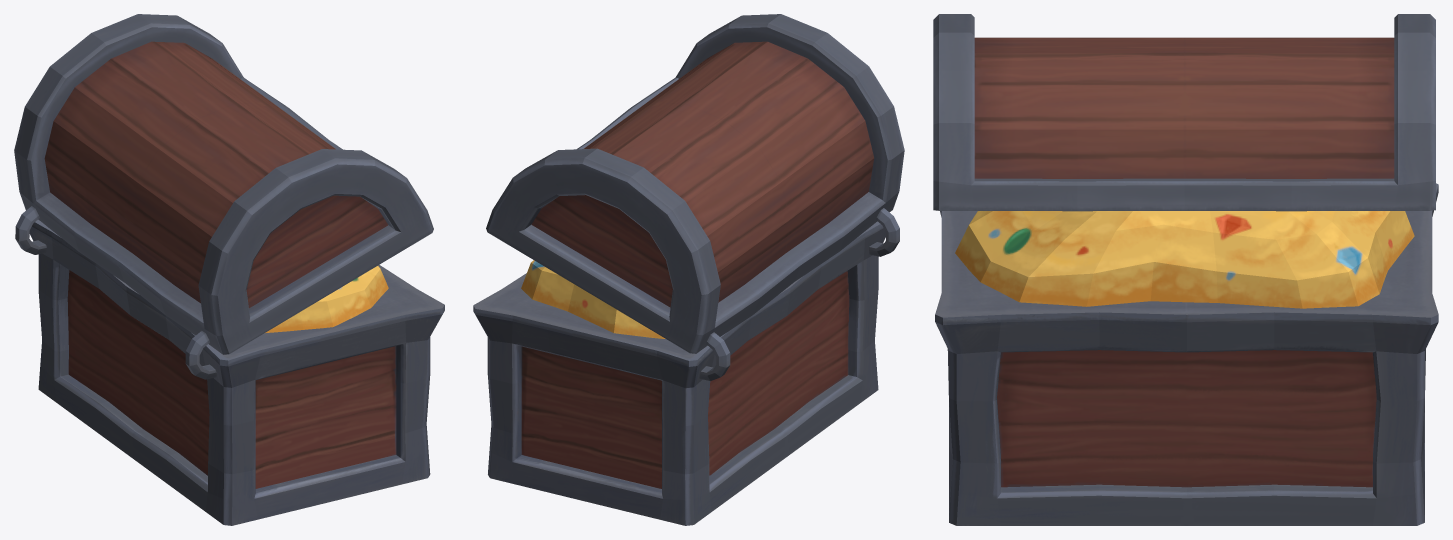
File: chest.fbx
The picture shows the model from 3 angles, left to right: view 1: azimuth 30°, elevation 25°; view 2: azimuth 150°, elevation 25°; view 3: azimuth 270°, elevation 25°; orthographic projection. The views are drawn at different scales.
Visible parts, largest first — view 1: Circle, Plane, Plane.001, Circle.001, Circle.002; view 2: Circle, Plane, Plane.001, Circle.002, Circle.001; view 3: Plane, Circle, Plane.001.
Part boxes in pixels (box(x1,y1,x2,y2)): Circle: box(14, 14, 433, 354); Plane: box(29, 219, 444, 525); Plane.001: box(265, 266, 388, 332); Circle.001: box(185, 331, 216, 379); Circle.002: box(15, 206, 46, 254); Circle: box(486, 14, 904, 353); Plane: box(473, 221, 885, 525); Plane.001: box(521, 260, 665, 338); Circle.002: box(699, 332, 730, 380); Circle.001: box(869, 208, 899, 256); Plane: box(935, 183, 1438, 525); Circle: box(933, 14, 1435, 211); Plane.001: box(955, 211, 1414, 308).
Size of the model in its own units: 1344 by 1825 by 1939.
